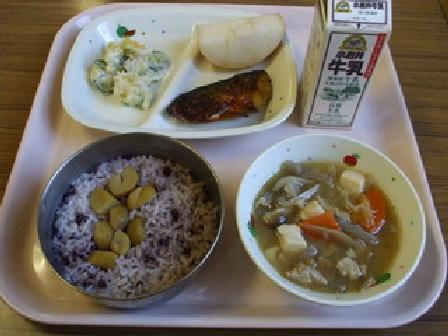Apple: (189, 5, 289, 73)
Fish: (167, 70, 282, 140)
Milk: (295, 0, 404, 130)
Mixed rice: (59, 140, 213, 297)
Salad: (74, 23, 169, 119)
Soups: (239, 143, 426, 296)
